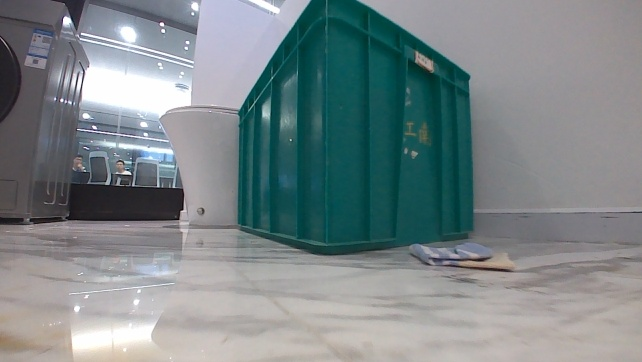socks: (404, 237, 516, 271)
toilet: (156, 100, 243, 231)
washing_machine: (0, 0, 94, 226)
